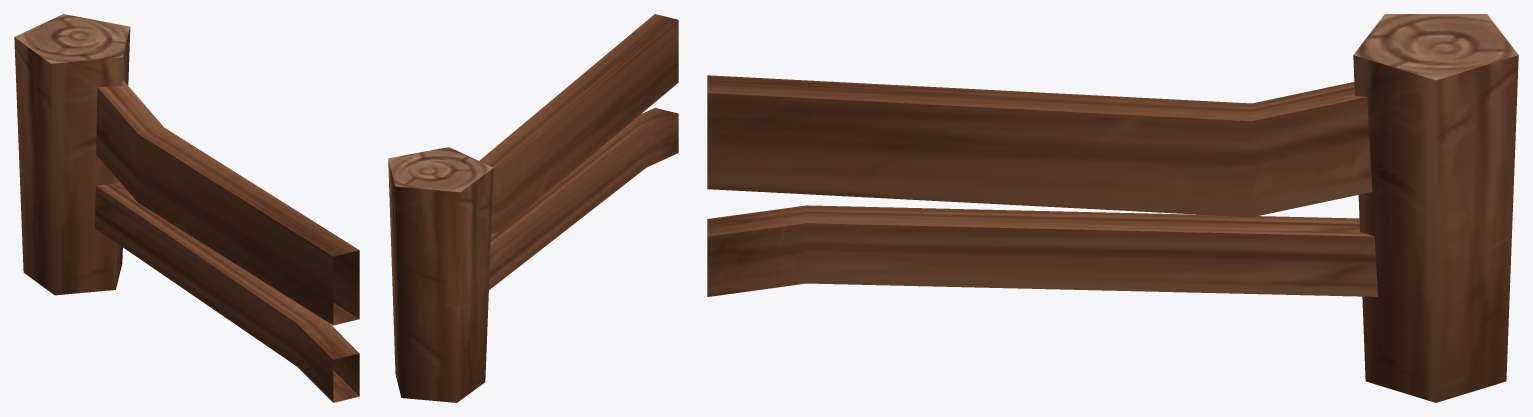
The model's file is fence2.FBX.
3 views of the same model, side by side, from view 1: azimuth 30°, elevation 25°; view 2: azimuth 150°, elevation 25°; view 3: azimuth 270°, elevation 25° (orthographic). The views are drawn at different scales.
Parts seen in each view (by area): view 1: fence2; view 2: fence2; view 3: fence2.
Boxes of the visible parts, <box> form: fence2: <box>14,14,359,402</box>; fence2: <box>388,14,678,402</box>; fence2: <box>707,14,1518,402</box>.
Size of the model in its own units: 119 by 274 by 615.
1 material, 1 textured.
